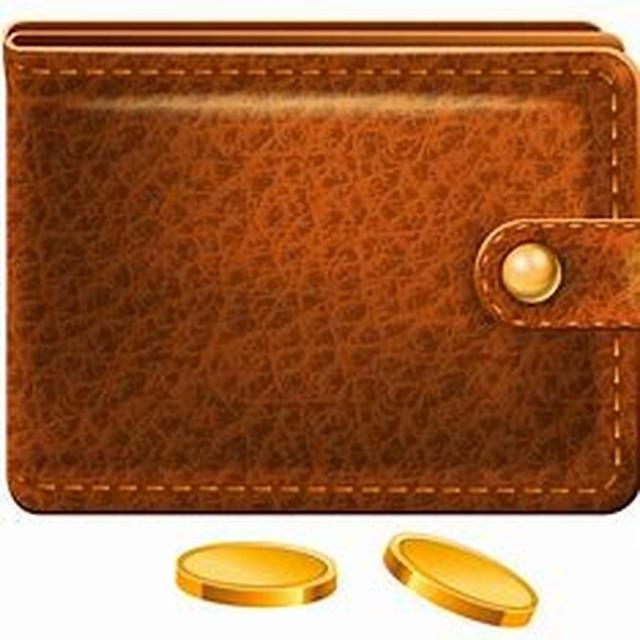wallet: (3, 16, 632, 531)
